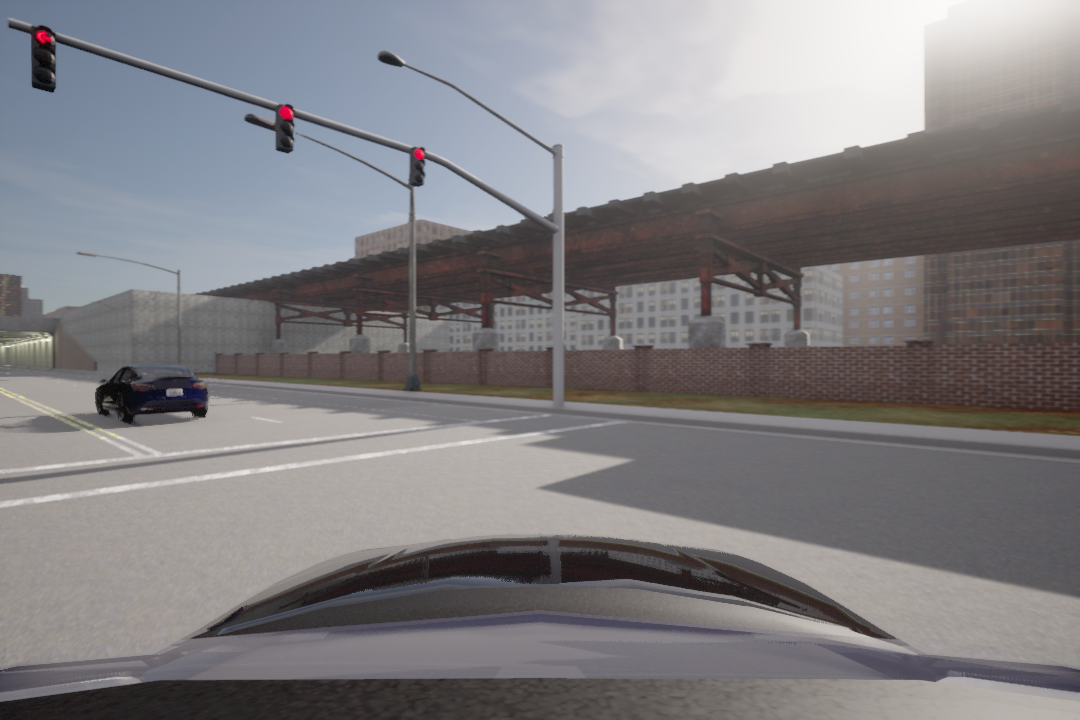TrafficLight: (29, 21, 63, 95), (401, 144, 431, 194), (271, 103, 297, 157)
